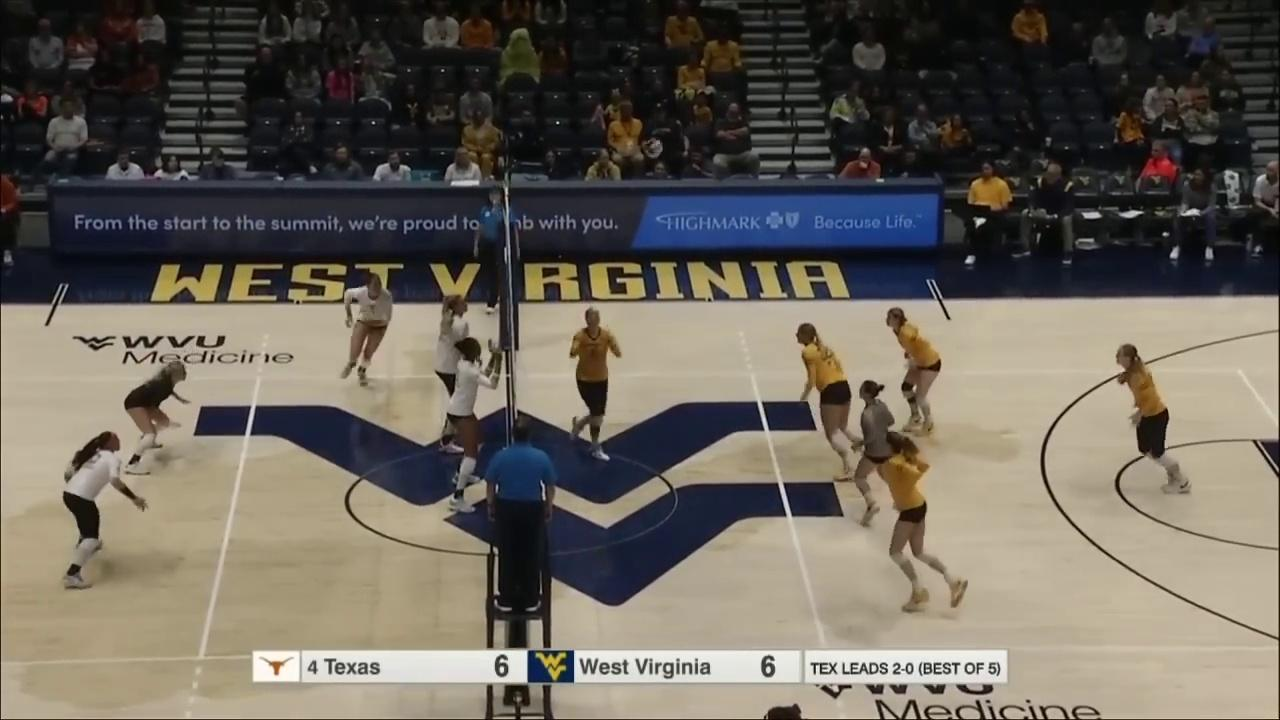player: (877, 429, 971, 619), (61, 430, 148, 591), (1112, 345, 1194, 494), (796, 320, 870, 482), (446, 339, 505, 514), (564, 306, 620, 460), (878, 306, 942, 432), (435, 290, 483, 457), (857, 379, 909, 526), (124, 358, 188, 471), (341, 272, 392, 389)
refree: (483, 413, 557, 613), (475, 187, 521, 315)
